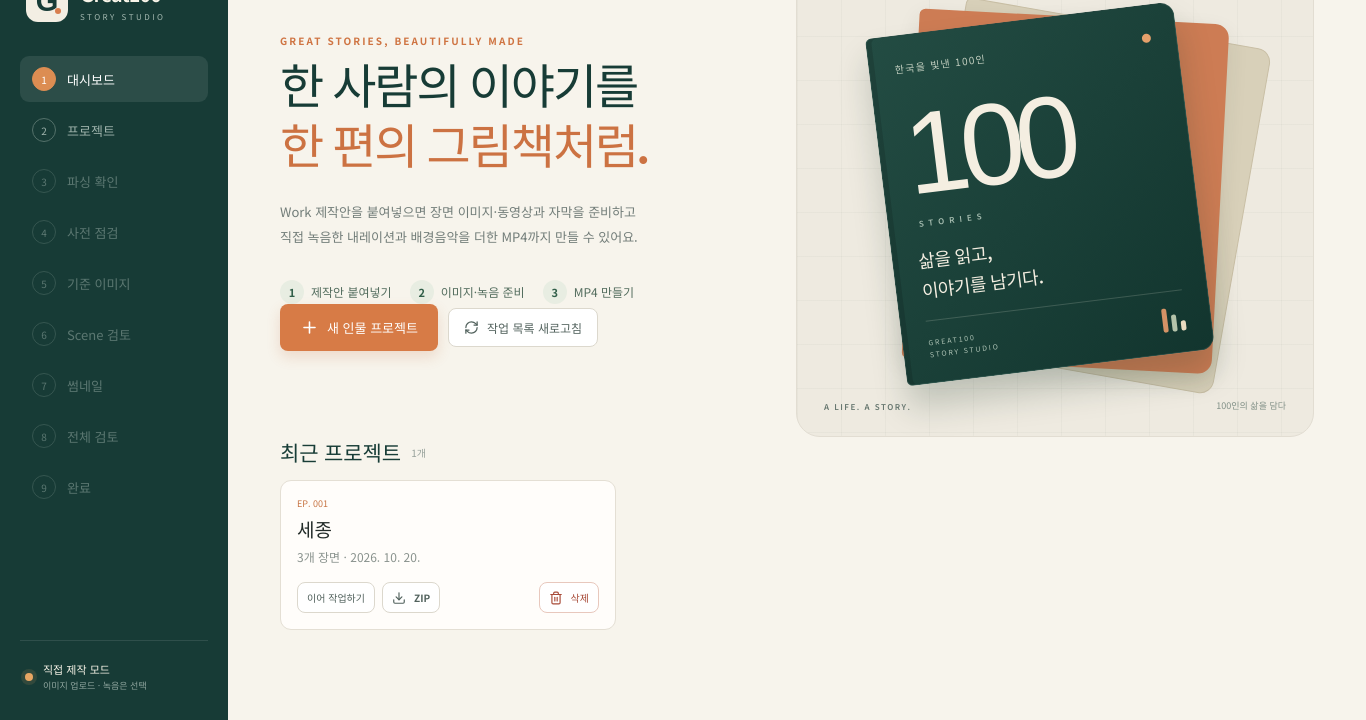
it: keeps provider errors retryable without replacing audio or issuing an automatic second request
(page scrolled)
Click the button "이어 작업하기". click: coordinates (336, 598)
box: [297,582,375,613]
(page scrolled)
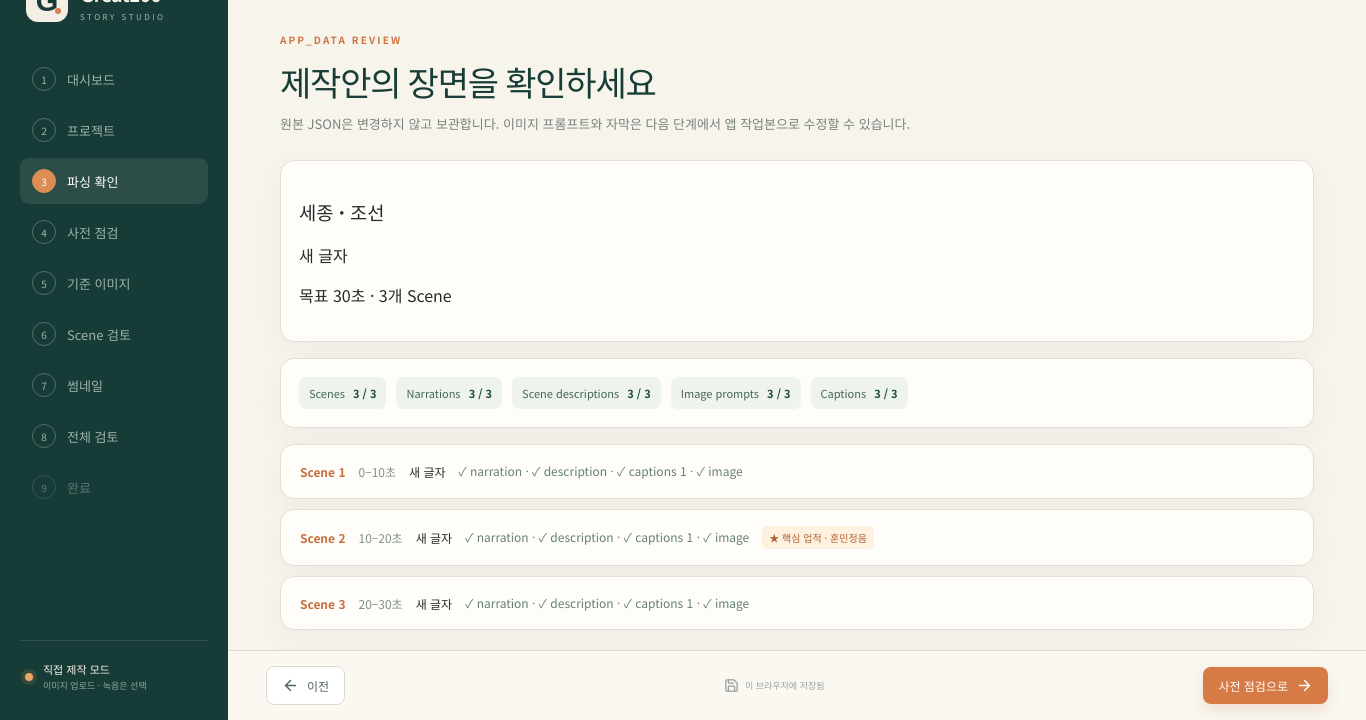
Click the button with aria-label "다음 단계". click: coordinates (1266, 686)
box: [1203,667,1328,704]
(page scrolled)
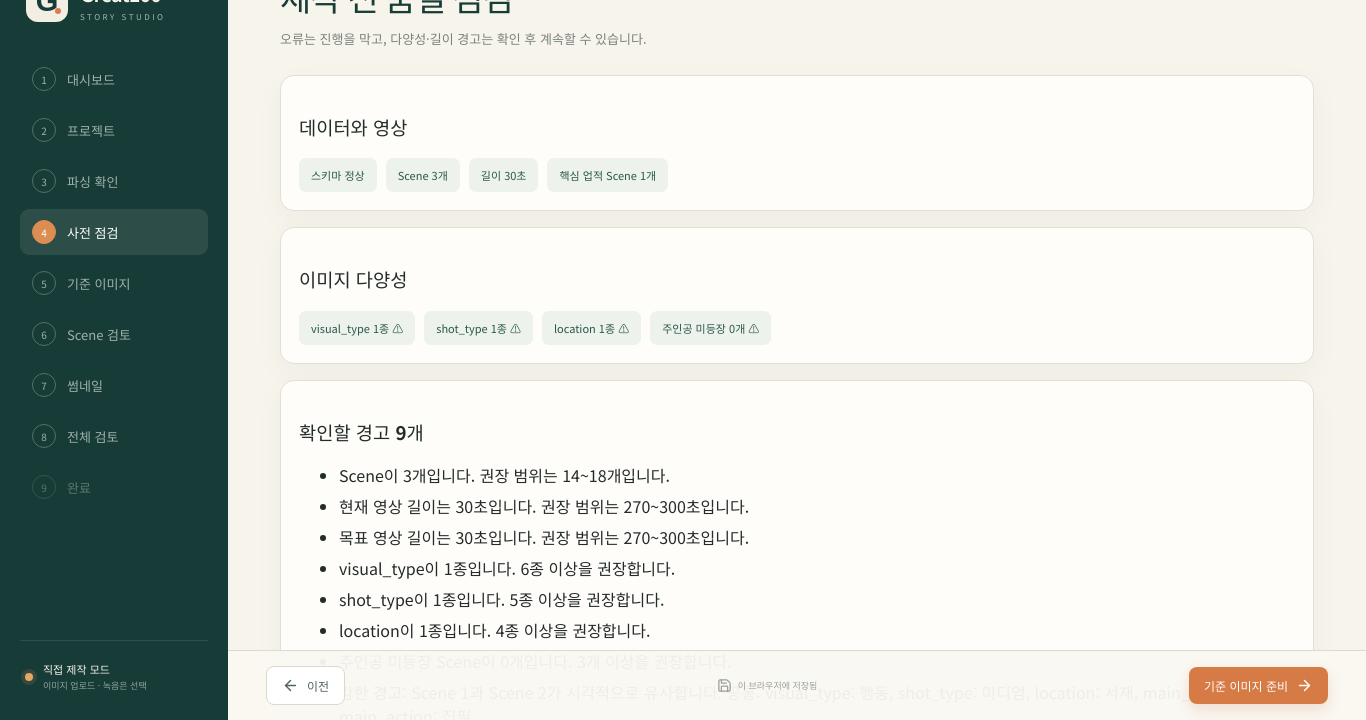
Click the button with aria-label "다음 단계". click: coordinates (1258, 686)
box: [1189,667,1328,704]
(page scrolled)
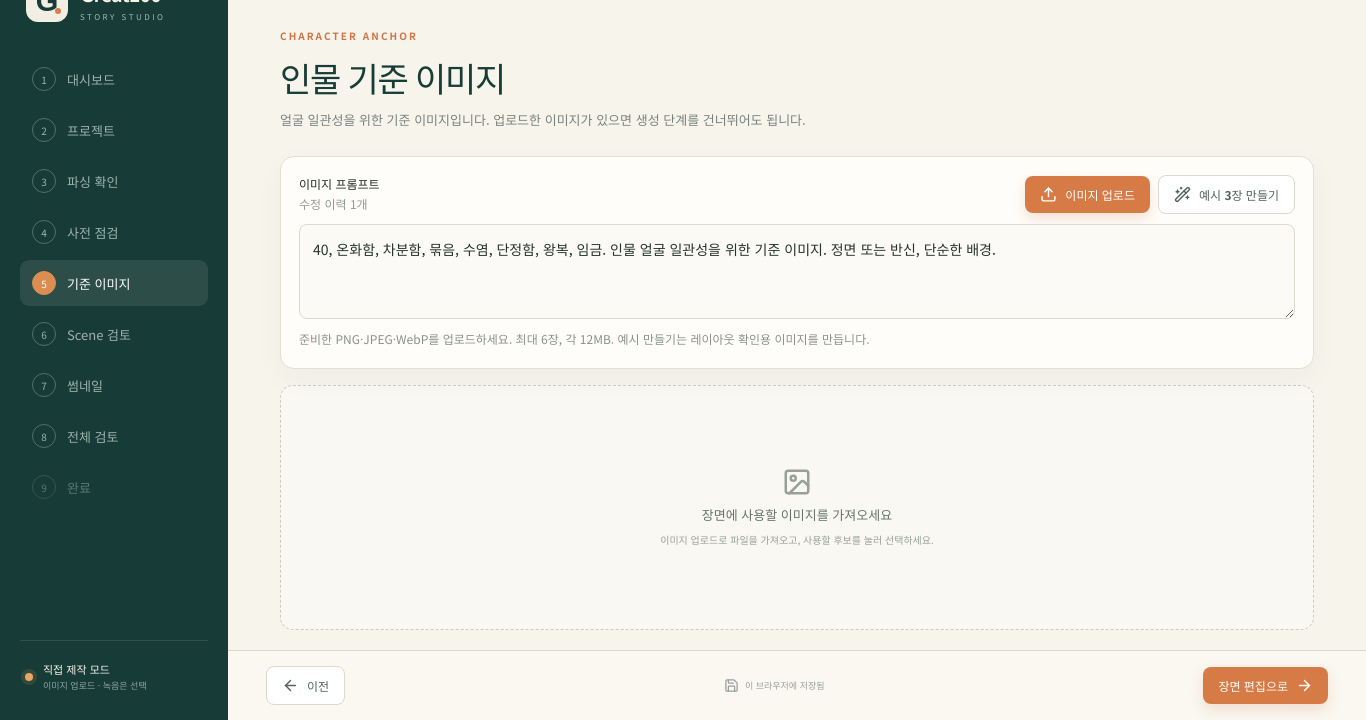
Click the button with aria-label "다음 단계". click: coordinates (1266, 686)
box: [1203,667,1328,704]
(page scrolled)
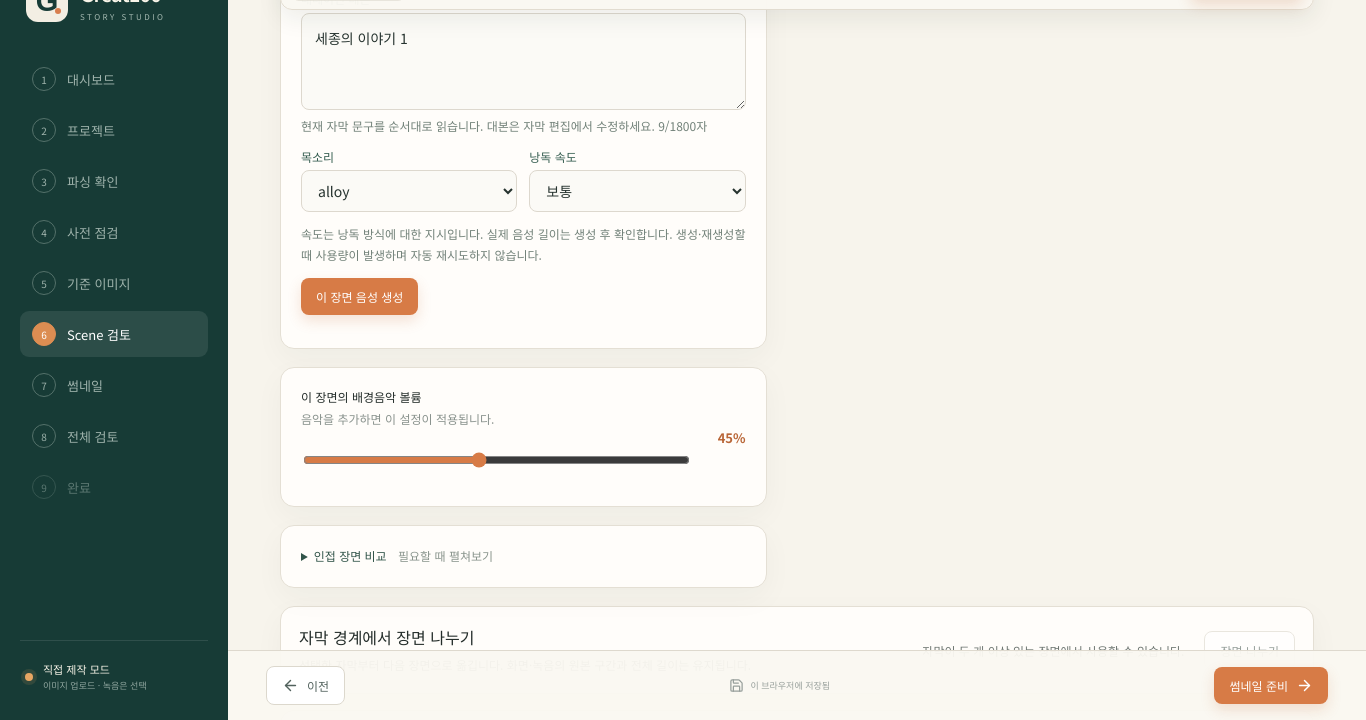
Click the button "이 장면 음성 생성". click: coordinates (360, 296)
box: [301,278,418,315]
(page scrolled)
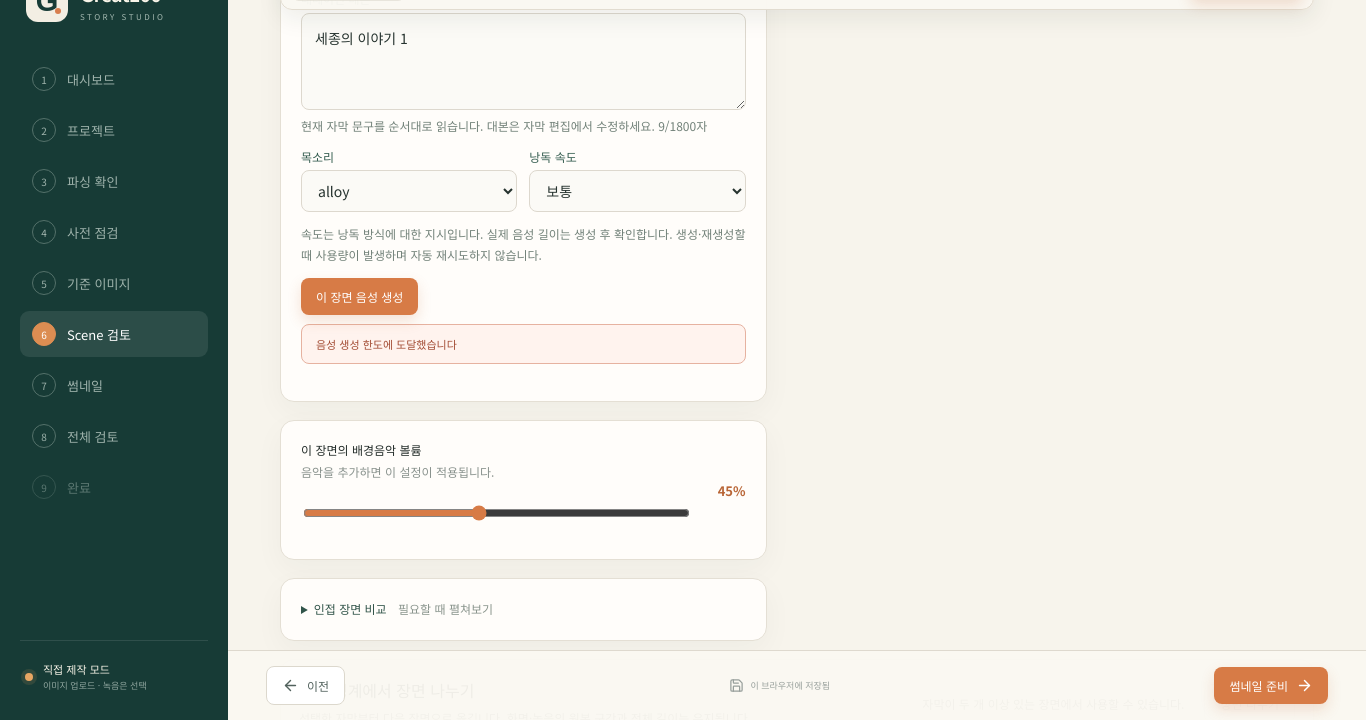
Result: the button "이 장면 음성 생성" is enabled at [301,278,418,315]
Result: the text "음성 생성 한도에 도달했습니다" is shown at [301,324,746,364]
